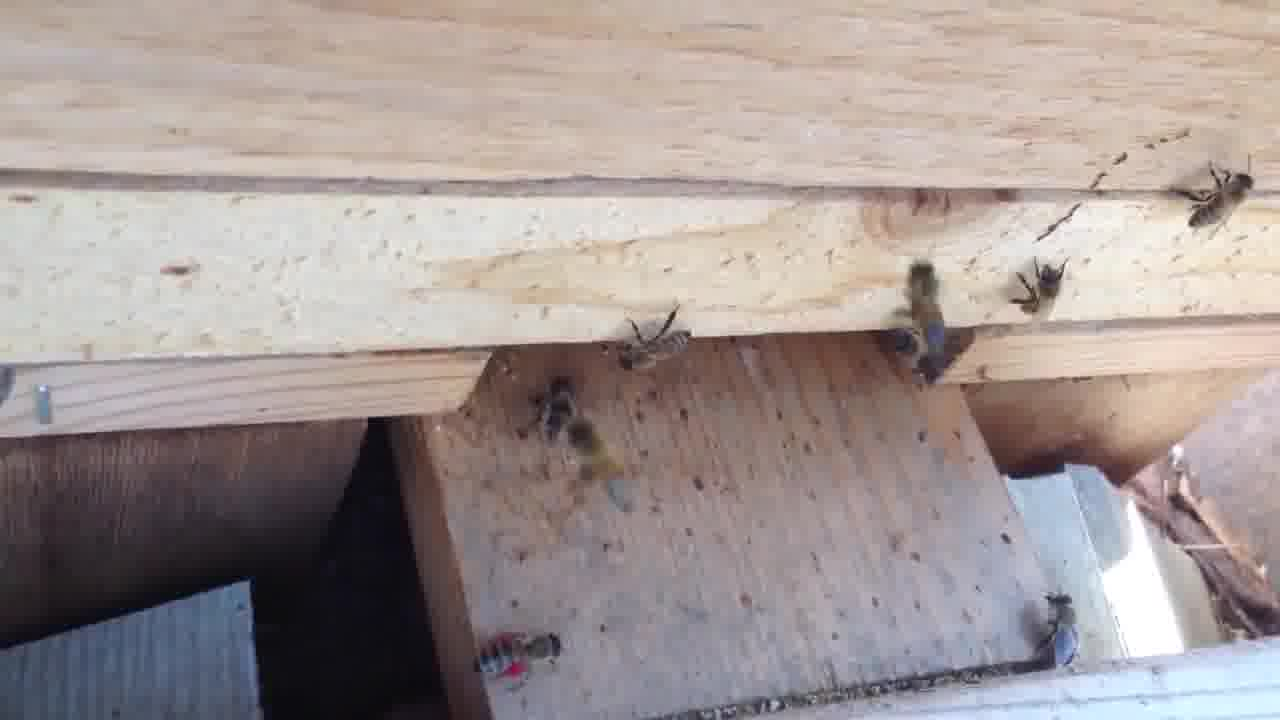pollen: (467, 630, 567, 681)
